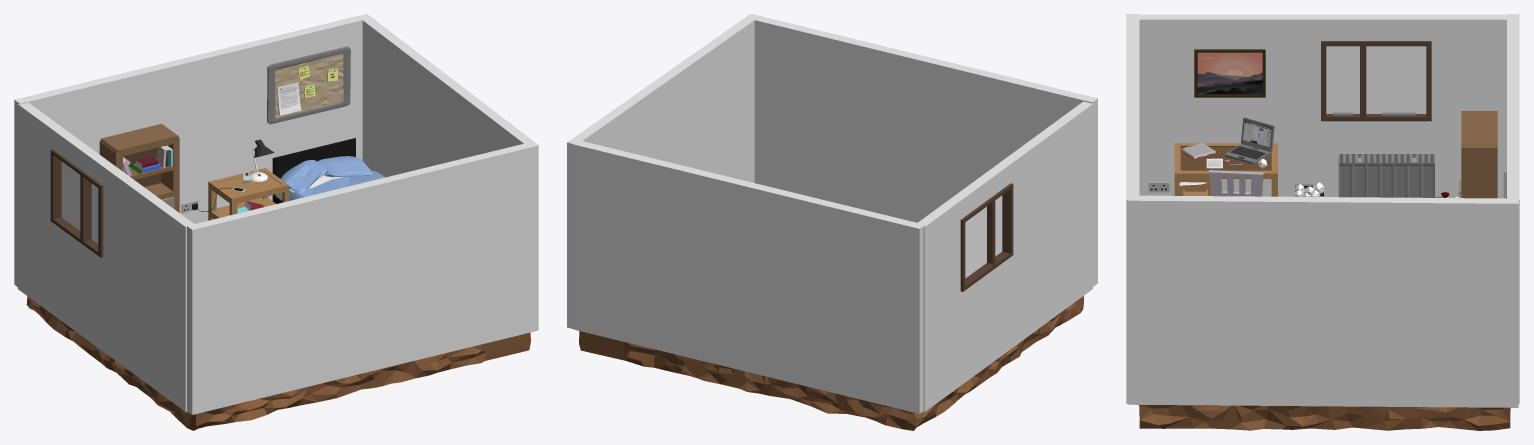
The picture shows the model from 3 angles, left to right: view 1: azimuth 30°, elevation 25°; view 2: azimuth 150°, elevation 25°; view 3: azimuth 270°, elevation 25°; orthographic projection. The views are drawn at different scales.
Parts seen in each view (by area): view 1: Cube.058_0, wall_83, Cube.001_82, Cube.059_1, Cube.057_111, Cube.031_32, WINDOWFRAME_40, Cube.052_6, Cube.007_74, Cube.051_7, Plane.002_39, Cube.003_78 (+4 smaller); view 2: Cube.001_82, Cube.058_0, wall_83, Cube.059_1, Cube.057_111, WINDOWFRAME_40, Plane.002_39; view 3: Cube.059_1, wall_83, Cube.057_111, Plane.002_39, Cube.002_38, Cube.030_33, Cube.031_32, Cube.001_82, Cube.058_0, WINDOWFRAME_40, Cube.018_53, Cube.020_49 (+2 smaller).
Part boxes in pixels (<box>): Cube.058_0: <box>187,144,537,414</box>; wall_83: <box>17,102,193,411</box>; Cube.001_82: <box>14,15,362,286</box>; Cube.059_1: <box>358,14,538,329</box>; Cube.057_111: <box>26,296,530,430</box>; Cube.031_32: <box>99,123,179,212</box>; WINDOWFRAME_40: <box>50,149,103,257</box>; Cube.052_6: <box>275,53,343,117</box>; Cube.007_74: <box>208,168,288,220</box>; Cube.051_7: <box>267,46,350,124</box>; Plane.002_39: <box>61,161,98,243</box>; Cube.003_78: <box>272,138,355,203</box>; Cube.001_82: <box>573,141,925,413</box>; Cube.058_0: <box>752,14,1097,286</box>; wall_83: <box>918,101,1092,411</box>; Cube.059_1: <box>567,14,759,328</box>; Cube.057_111: <box>579,296,1083,430</box>; WINDOWFRAME_40: <box>960,183,1013,291</box>; Plane.002_39: <box>965,195,1002,278</box>; Cube.059_1: <box>1128,195,1518,407</box>; wall_83: <box>1139,14,1506,198</box>; Cube.057_111: <box>1139,405,1510,430</box>; Plane.002_39: <box>1326,46,1426,113</box>; Cube.002_38: <box>1338,156,1434,197</box>; Cube.030_33: <box>1194,49,1265,97</box>; Cube.031_32: <box>1458,111,1497,198</box>; Cube.001_82: <box>1507,14,1519,403</box>; Cube.058_0: <box>1126,14,1138,403</box>; WINDOWFRAME_40: <box>1321,41,1431,121</box>; Cube.018_53: <box>1174,143,1277,196</box>; Cube.020_49: <box>1224,117,1274,164</box>.
Size of the model in its own units: 3.65 by 2.04 by 3.16.
Materials: 82 (8 with a texture image).
